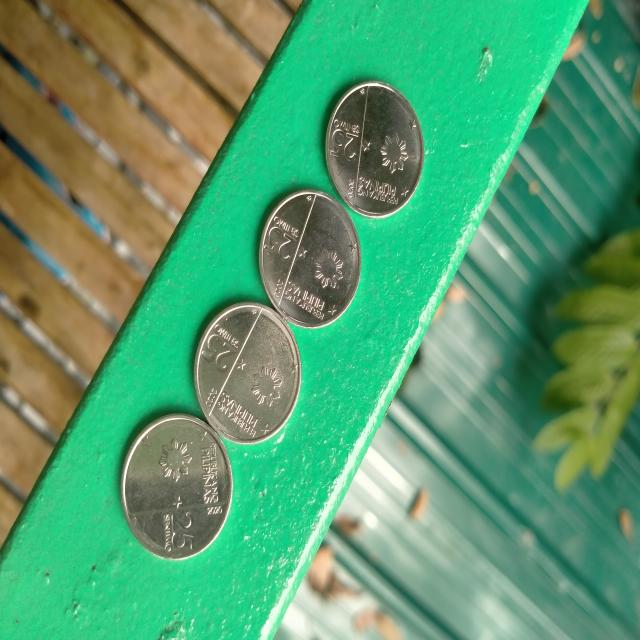25Cent_New_Front: (265, 209, 345, 328), (153, 432, 223, 550), (331, 112, 412, 212)
